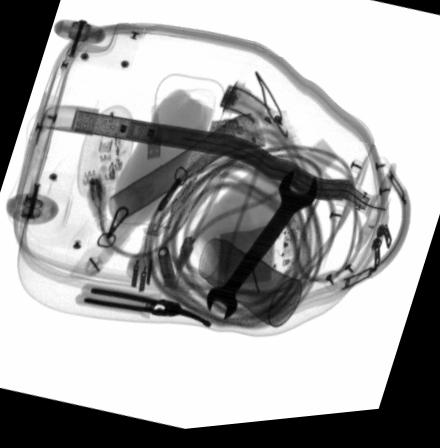Pliers: (81, 287, 211, 332)
Powerbank: (217, 225, 309, 303)
Wrench: (204, 172, 317, 324)
